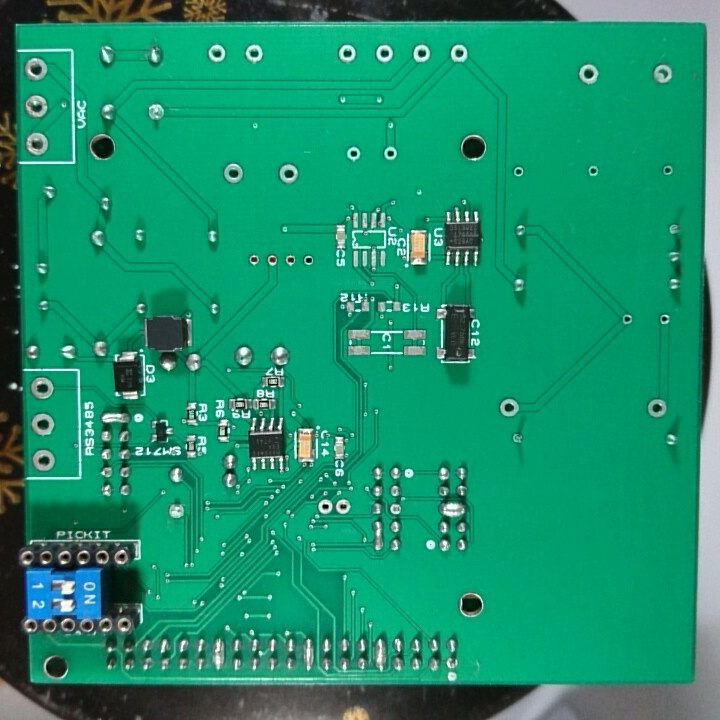F: (26, 373, 58, 403), (273, 158, 303, 188), (23, 129, 53, 159), (28, 409, 58, 439), (576, 58, 604, 89), (29, 443, 56, 475), (334, 37, 361, 68), (22, 91, 50, 120), (649, 60, 676, 89), (21, 56, 49, 83), (447, 39, 471, 69), (221, 159, 247, 186), (644, 394, 672, 418), (407, 43, 436, 66), (496, 395, 522, 420), (333, 494, 356, 522), (241, 41, 267, 64), (145, 100, 171, 123), (164, 498, 186, 524), (371, 41, 395, 64), (205, 42, 230, 63), (664, 217, 684, 240), (315, 495, 333, 520), (298, 249, 316, 272), (345, 143, 363, 163), (387, 500, 406, 518), (510, 430, 529, 448), (444, 653, 461, 672), (619, 310, 636, 329), (510, 163, 529, 180), (585, 162, 602, 180), (281, 251, 298, 269), (382, 143, 396, 164), (659, 161, 676, 178), (264, 251, 280, 269), (656, 310, 670, 329), (247, 252, 261, 269)
P: (373, 633, 390, 675), (98, 409, 133, 428), (436, 498, 469, 518), (301, 635, 318, 673), (210, 635, 227, 671), (369, 518, 384, 553)
